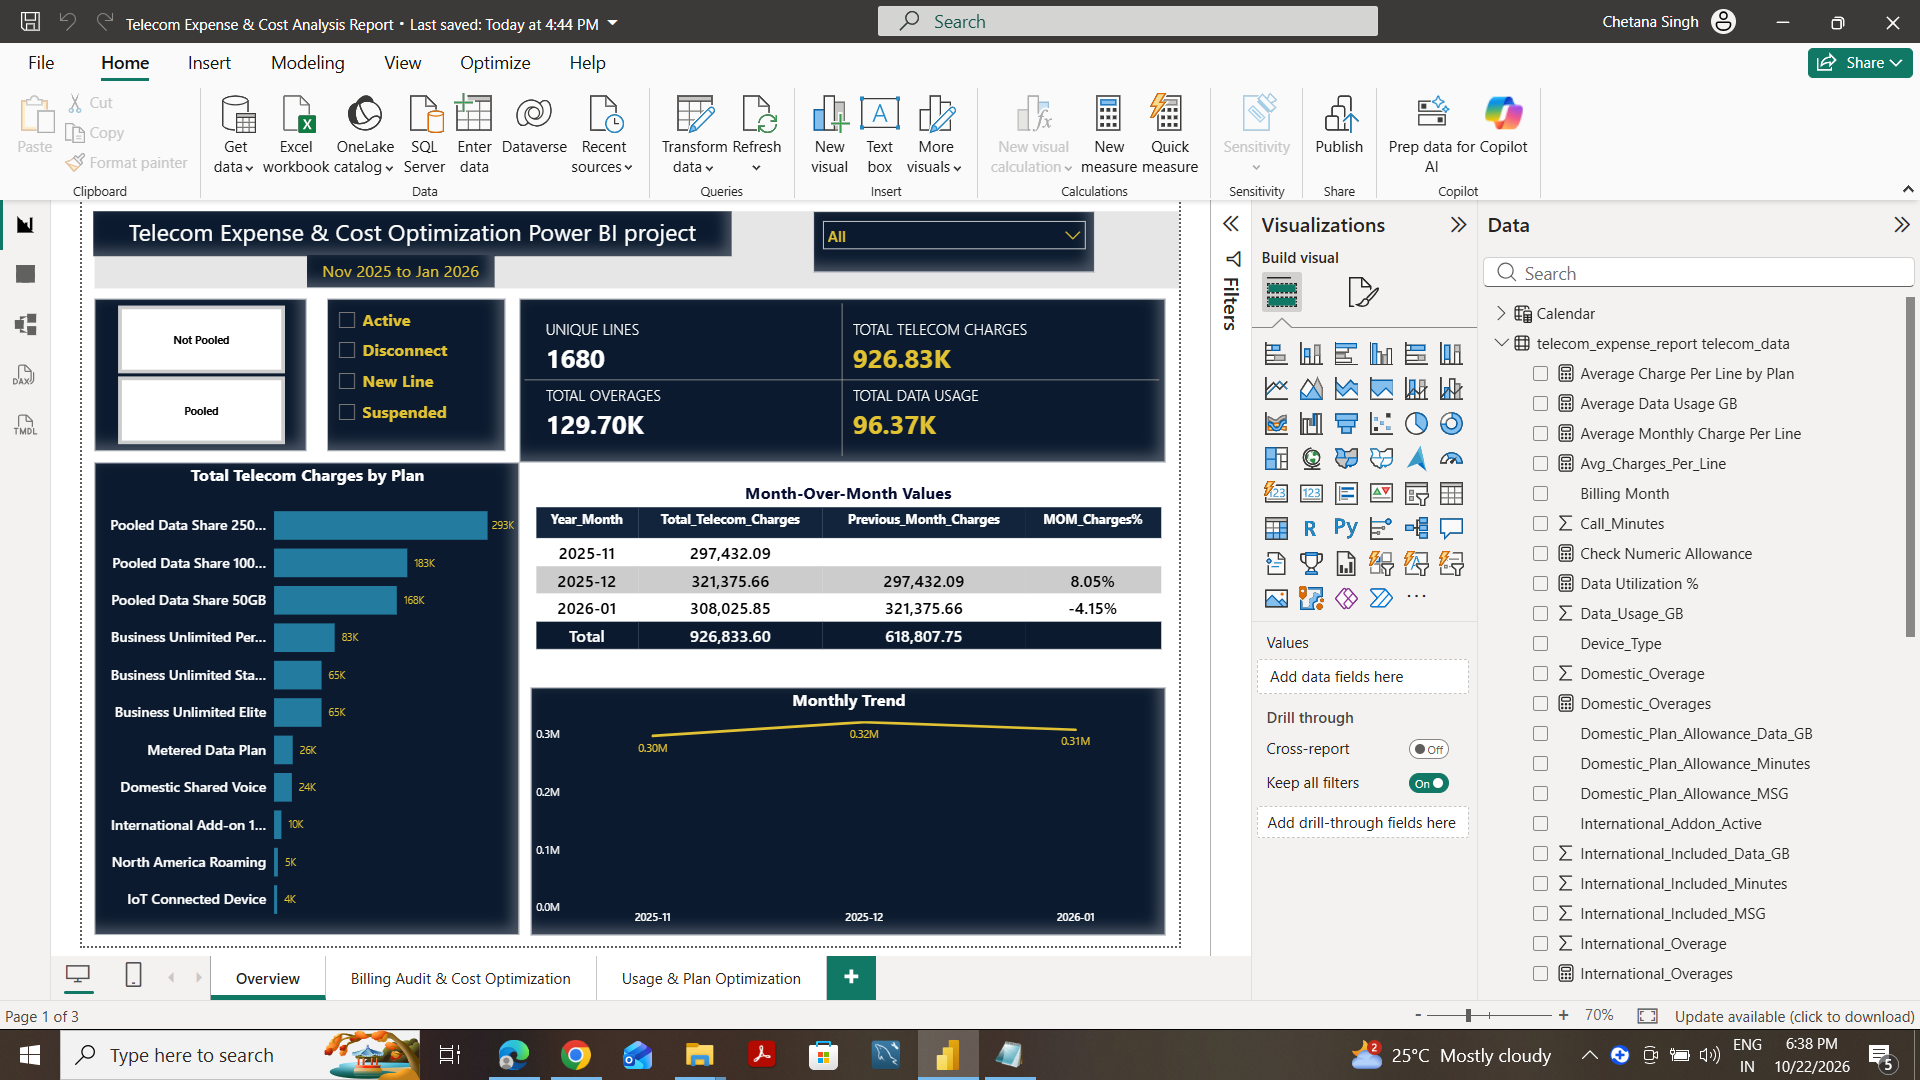

What the dashboard file says about the page in this screenshot:
{"tool":"powerbi","page":{"name":"Overview","canvas":[1250,850],"ordinal":0},"visuals":[{"type":"cardVisual","fields":{"Data":["telecom_expense_report telecom_data.Total_Lines","telecom_expense_report telecom_data.Total_Telecom_Charges","telecom_expense_report telecom_data.Total_Overages","telecom_expense_report telecom_data.Total data usage"]},"box":[498.5,112.5,736.3,186.6],"z":0},{"type":"textbox","box":[13.7,12.3,1257,87.8],"z":1000},{"type":"textbox","box":[13.3,13.3,727.5,51.5],"z":2000},{"type":"textbox","box":[256.2,63.3,213.5,36.8],"z":3000},{"type":"lineChart","title":"Monthly Trend","fields":{"Y":["telecom_expense_report telecom_data.Total_Telecom_Charges"],"Category":["Calendar.Year_Month"]},"box":[511.3,555.5,723.5,282],"z":4000},{"type":"clusteredBarChart","title":"Total Telecom Charges by Plan","fields":{"Category":["telecom_expense_report telecom_data.Plan_Name"],"Y":["telecom_expense_report telecom_data.Total_Telecom_Charges"]},"box":[14.2,299.1,484.3,538.4],"z":5000},{"type":"slicer","fields":{"Values":["Calendar.Month_Name"]},"box":[833.5,13.3,321,69.2],"z":6000},{"type":"tableEx","title":"Month-Over-Month Values","fields":{"Values":["Calendar.Year_Month","telecom_expense_report telecom_data.Total_Telecom_Charges","telecom_expense_report telecom_data.Previous_Month_Charges","telecom_expense_report telecom_data.MOM_Charges%"]},"box":[511.3,320.5,723.5,222.2],"z":7000},{"type":"slicer","fields":{"Values":["telecom_expense_report telecom_data.Pooling_Status"]},"box":[14.7,111.9,241.5,173.8],"z":8000},{"type":"slicer","fields":{"Values":["telecom_expense_report telecom_data.Status"]},"box":[279.8,111.9,203.2,173.8],"z":9000}]}

Visuals, with their boxes on the page's 1250x850 design canvas (x1, y1, x2, y2). These are canvas units, not pixel positions in the 1920x1080 screenshot, which may show the page scaled, cropped or inside an application window:
cardVisual - telecom_expense_report telecom_data.Total_Lines x telecom_expense_report telecom_data.Total_Telecom_Charges: (498,112,1235,299)
textbox: (14,12,1271,100)
textbox: (13,13,741,65)
textbox: (256,63,470,100)
"Monthly Trend" lineChart: (511,556,1235,838)
"Total Telecom Charges by Plan" clusteredBarChart: (14,299,498,838)
slicer - Calendar.Month_Name: (834,13,1154,82)
"Month-Over-Month Values" tableEx: (511,320,1235,543)
slicer - telecom_expense_report telecom_data.Pooling_Status: (15,112,256,286)
slicer - telecom_expense_report telecom_data.Status: (280,112,483,286)
